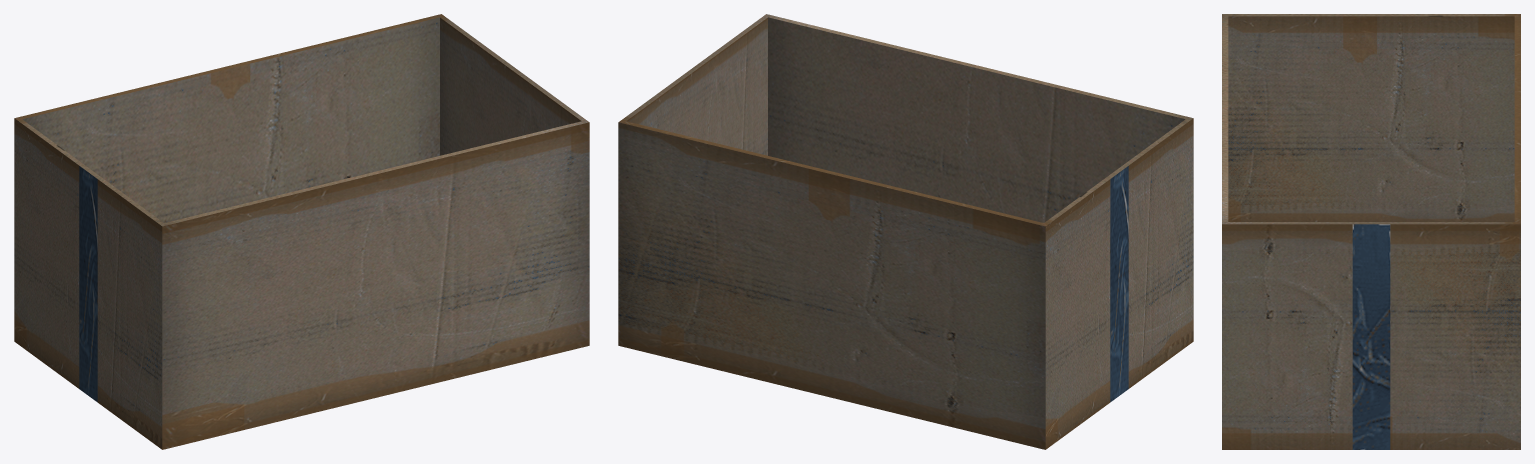
The model's file is CardboardBoxOpen1_SM.fbx.
3 renders of one model, left to right at view 1: azimuth 30°, elevation 25°; view 2: azimuth 150°, elevation 25°; view 3: azimuth 270°, elevation 25°, orthographic.
Parts seen in each view (by area): view 1: Box015; view 2: Box015; view 3: Box015.
Boxes of the visible parts, bbox=[...] form: Box015: bbox=[14, 14, 589, 449]; Box015: bbox=[618, 14, 1193, 449]; Box015: bbox=[1222, 14, 1520, 449].
Bounding box in the file's own units: 117 × 58.47 × 70.16.
